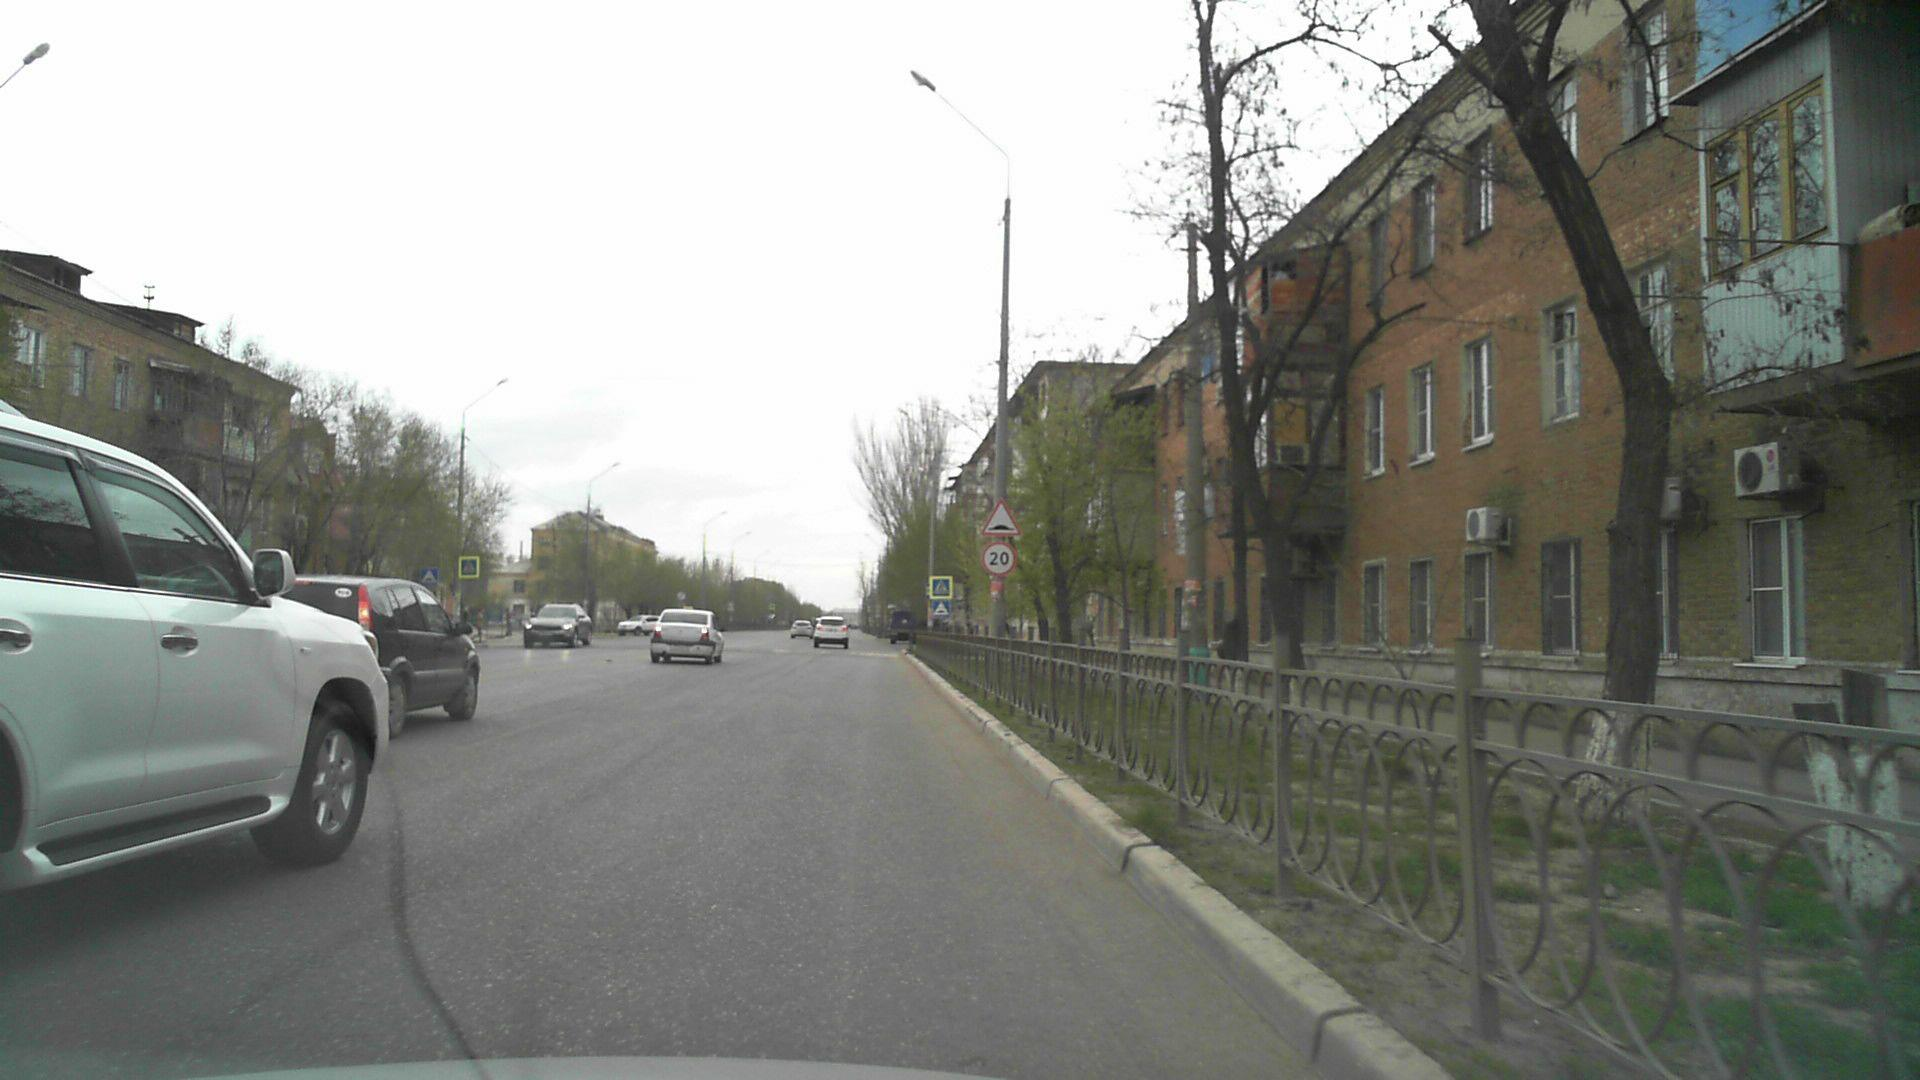1_17: (982, 498, 1022, 537)
3_24: (981, 541, 1017, 576)
5_19_1: (931, 578, 951, 596)
5_19_2: (460, 558, 477, 576)
5_20: (421, 566, 439, 585), (930, 599, 949, 616)
